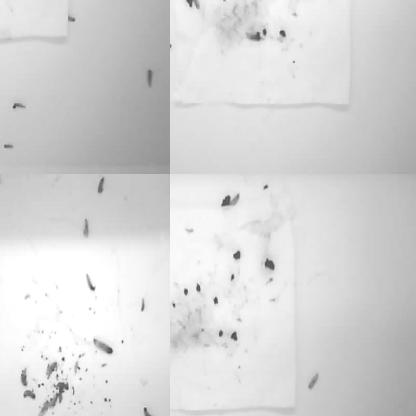PtecticusTenebrifer: (93, 337, 114, 355), (308, 371, 320, 392), (84, 272, 96, 292), (245, 29, 262, 43), (46, 360, 58, 378), (37, 398, 48, 416), (19, 367, 28, 388), (143, 405, 160, 416), (23, 389, 37, 401), (98, 176, 105, 197), (348, 0, 361, 11), (170, 310, 177, 330), (84, 218, 90, 240), (147, 68, 153, 88), (13, 102, 28, 110), (188, 0, 200, 10), (0, 346, 5, 369), (144, 0, 159, 7), (321, 0, 334, 7), (0, 0, 9, 10), (78, 174, 96, 179), (301, 0, 309, 11), (0, 371, 5, 388), (0, 105, 5, 121), (170, 286, 177, 297), (170, 41, 176, 53), (249, 0, 258, 8), (323, 0, 330, 9), (170, 0, 175, 12), (0, 174, 5, 186), (307, 0, 314, 8), (5, 144, 16, 149), (338, 0, 344, 9), (0, 0, 6, 8), (319, 0, 325, 8), (334, 0, 338, 9), (0, 0, 7, 4), (170, 0, 173, 9)
